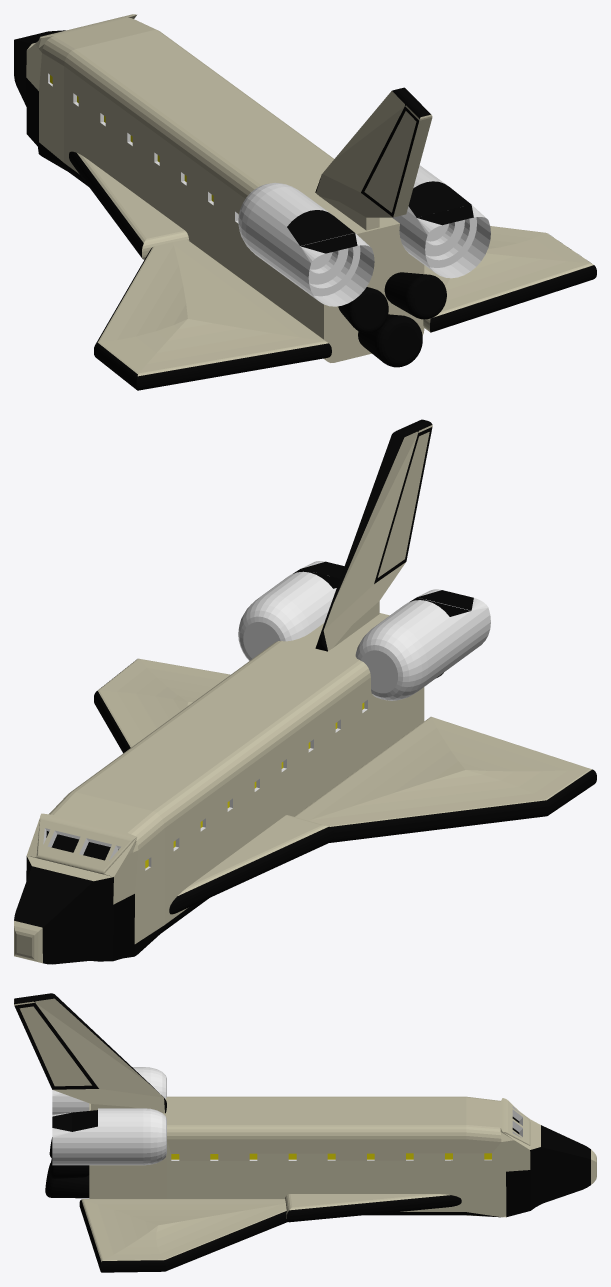
File: スペースシャトル3.fbx
3 renders of one model, top to bottom at view 1: azimuth 30°, elevation 25°; view 2: azimuth 150°, elevation 25°; view 3: azimuth 270°, elevation 25°, orthographic. The views are drawn at different scales.
Visible parts, largest first — view 1: 円柱.015; view 2: 円柱.015; view 3: 円柱.015.
Boxes of the visible parts, left/top/right/bottom form: 円柱.015: left=14, top=14, right=596, bottom=390; 円柱.015: left=14, top=419, right=596, bottom=964; 円柱.015: left=14, top=993, right=596, bottom=1272.
Bounding box in the file's own units: 3481 × 2052 × 5263.
